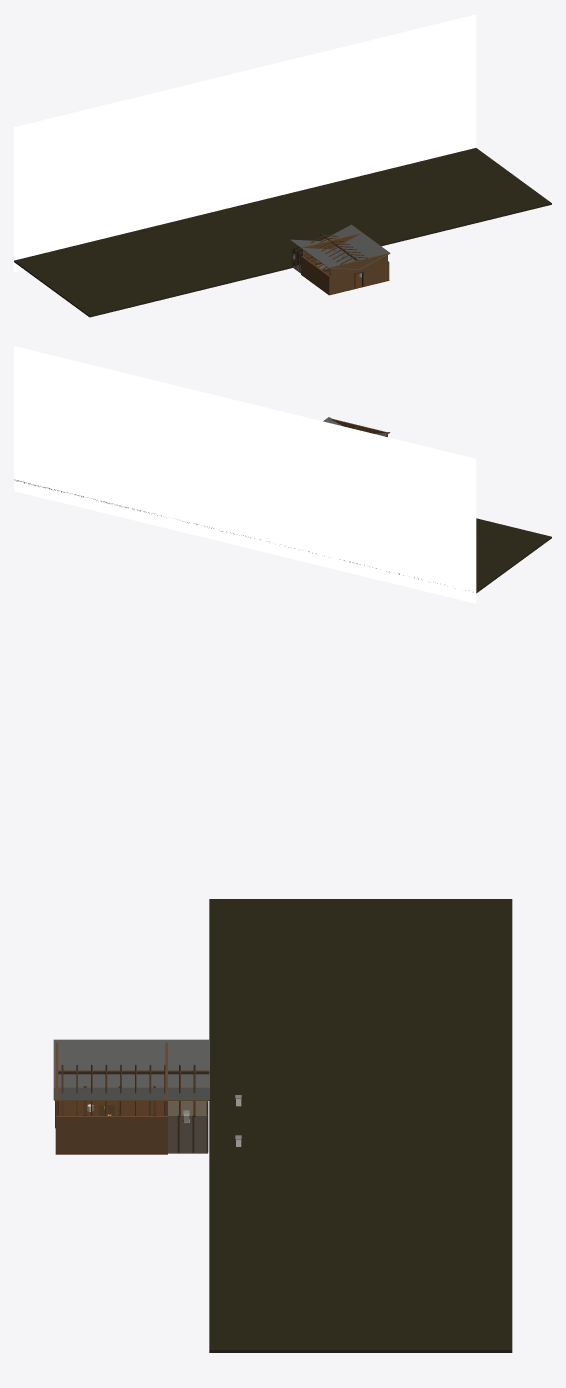
Rendered from honey_house.glb.
The picture shows the model from 3 angles, top to bottom: view 1: azimuth 30°, elevation 25°; view 2: azimuth 150°, elevation 25°; view 3: azimuth 270°, elevation 25°; orthographic projection. The views are drawn at different scales.
Parts seen in each view (by area): view 1: Fields-col, HoneyHouse-col; view 2: Fields-col, HoneyHouse-col; view 3: Fields-col, HoneyHouse-col, Porch-col, Screens.
Boxes of the visible parts, <box> form: Fields-col: <box>14,14,551,317</box>; HoneyHouse-col: <box>290,224,390,295</box>; Fields-col: <box>14,346,551,603</box>; HoneyHouse-col: <box>323,417,390,437</box>; Fields-col: <box>209,899,512,1352</box>; HoneyHouse-col: <box>53,1039,209,1154</box>; Porch-col: <box>168,1101,208,1153</box>; Screens: <box>168,1116,206,1151</box>.
Bounding box in the file's own units: 80 × 24 × 34.35.
